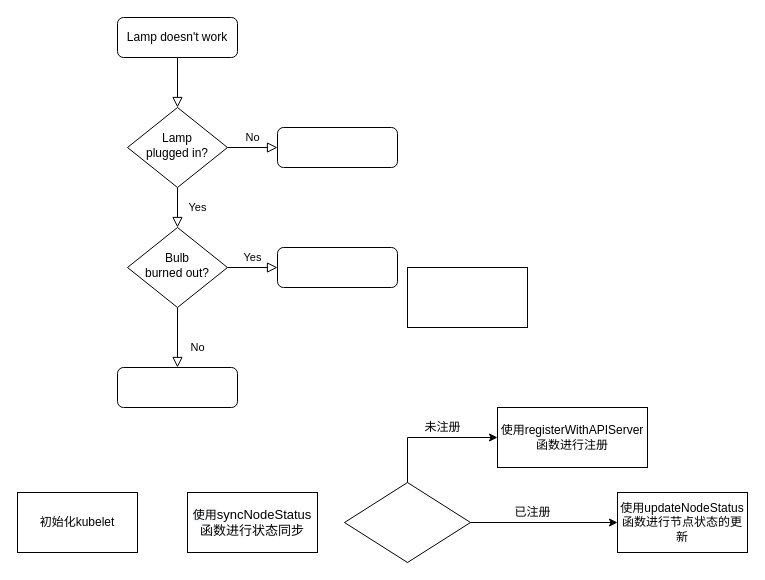
Some shapes in this 765 by 580 pixel diagram are drawn without their labels. The shapes that lost their labels are listed below. From the top down, each one's centre as x and y in pixels, then its label:
At [337,147]: "Plug in lamp".
At [337,267]: "Replace Bulb".
At [177,387]: "Repair Lamp".
At [407,522]: "判断节点是否注册".
